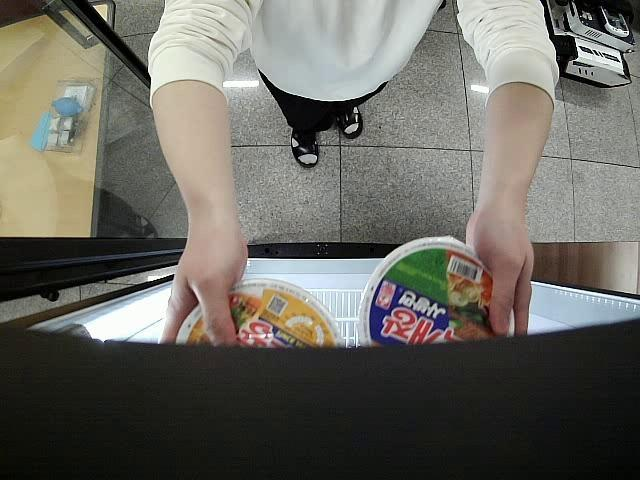09_yukGaeJang: (358, 236, 514, 346), (176, 278, 344, 354)
